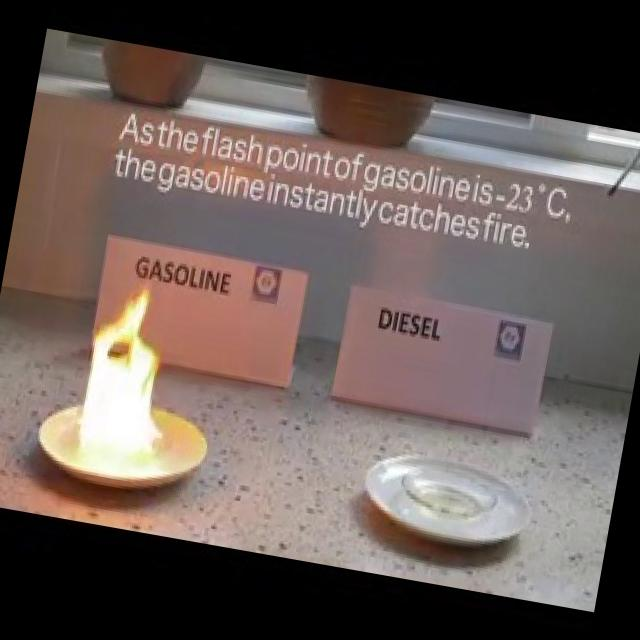Fire: (47, 270, 197, 474)
